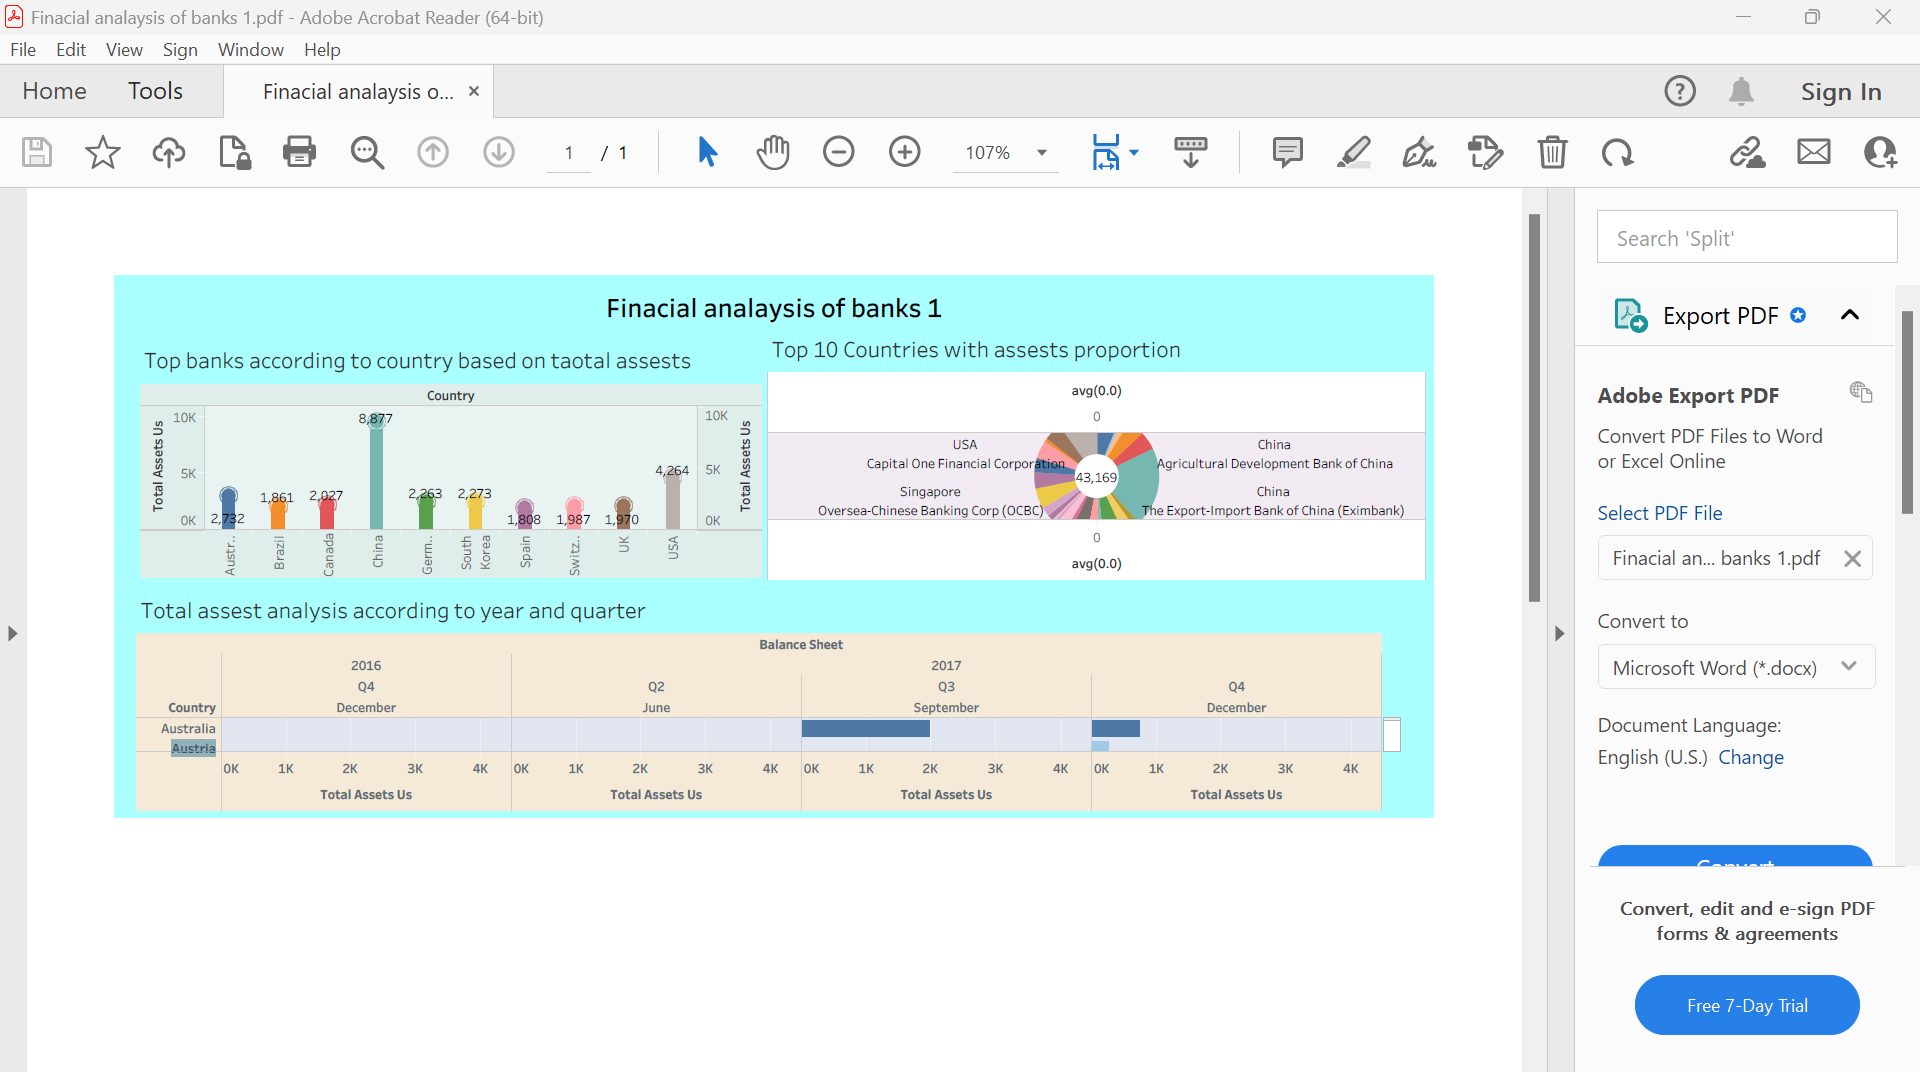

The page's visual inventory and layout, read from the dashboard file:
{"tool":"tableau","page":{"name":"Finacial analaysis of banks 1","canvas":[1000,1000],"units":"permille","ordinal":1},"visuals":[{"type":"title","box":[7.5,13.7,985,70.3]},{"type":"worksheet","title":"Top 10 Countries with assests proportion","mark":"Pie","cols":["Calculation_2314287276333899782","Calculation_2314287276333899782"],"box":[495,96,500.4,466.6]},{"type":"worksheet","title":"Top banks according to country based on taotal assests","mark":"Bar","rows":["Calculation_966585087791235072","Calculation_966585087791235072"],"cols":["country"],"box":[18.9,116.6,472.5,444.2]},{"type":"worksheet","title":"Total assest analysis according to year and quarter","mark":"Automatic","rows":["country"],"cols":["balance_sheet","balance_sheet","balance_sheet","Calculation_966585087791235072"],"box":[17.1,576.3,959.4,413.4]}]}

Visuals, with their boxes on the dashboard's canvas, which has no fixed pixel size, in thousandths of its width and height (x1, y1, x2, y2). These are canvas units, not pixel positions in the 1920x1072 screenshot, which may show the page scaled, cropped or inside an application window:
title: box=[8, 14, 992, 84]
"Top 10 Countries with assests proportion" worksheet (Pie marks): box=[495, 96, 995, 563]
"Top banks according to country based on taotal assests" worksheet (Bar marks): box=[19, 117, 491, 561]
"Total assest analysis according to year and quarter" worksheet: box=[17, 576, 976, 990]
